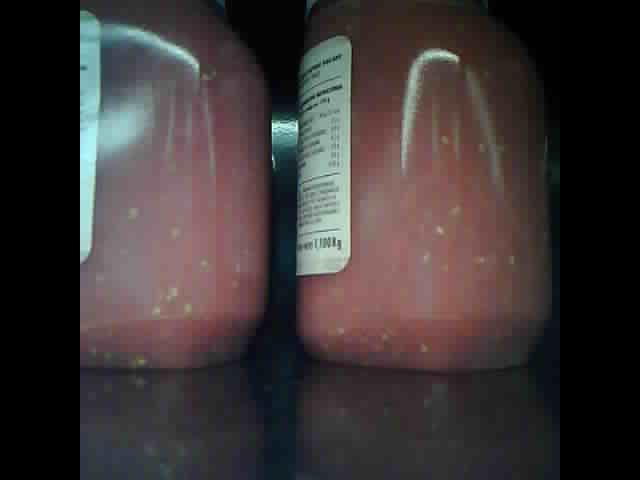tomate: (294, 3, 551, 369), (80, 4, 272, 369)
